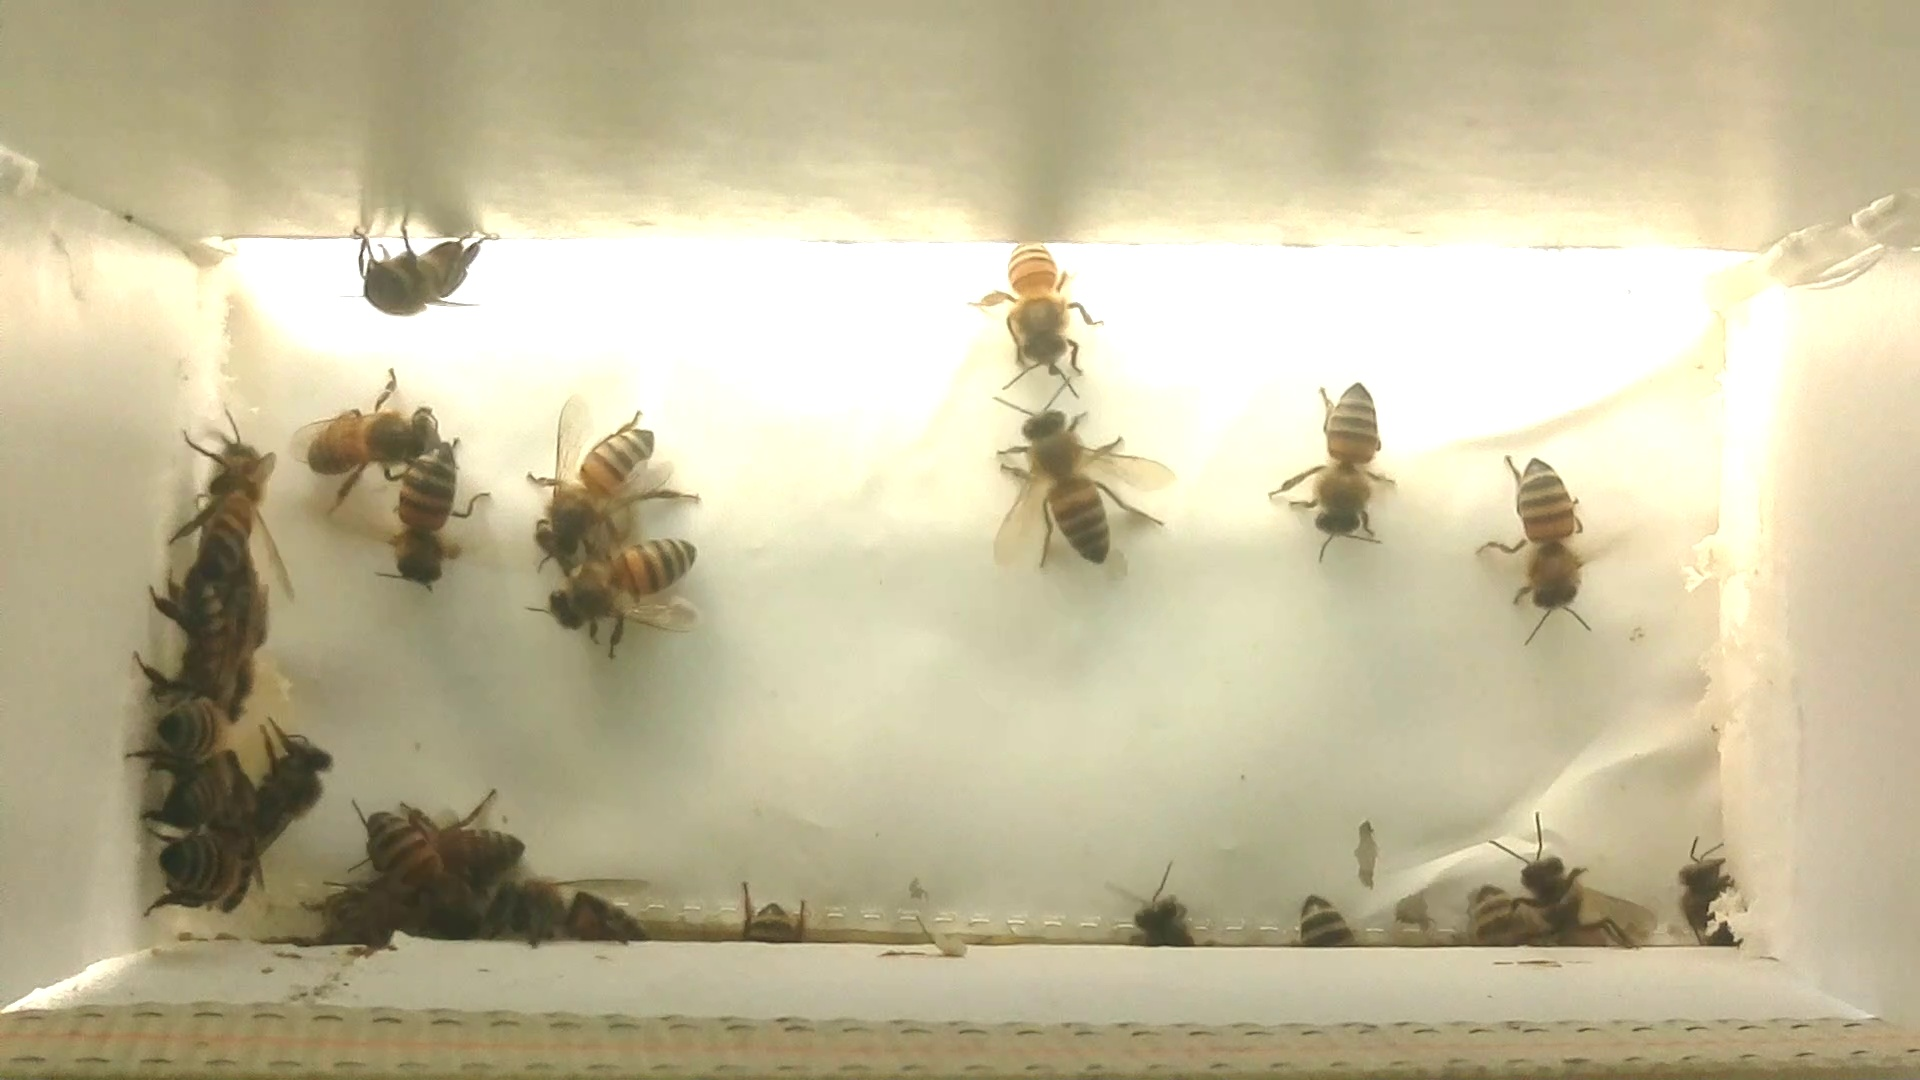bee: (968, 376, 1168, 576), (505, 396, 705, 576), (1261, 363, 1414, 574), (1472, 448, 1609, 651), (520, 535, 721, 673), (281, 361, 465, 510), (968, 225, 1110, 396), (1495, 808, 1630, 971), (363, 425, 479, 607), (359, 791, 491, 951), (334, 208, 512, 324), (169, 415, 286, 585), (220, 703, 340, 860), (148, 564, 265, 709), (1098, 849, 1209, 968), (131, 731, 237, 836), (1665, 839, 1759, 957), (144, 820, 253, 920), (128, 669, 225, 766), (436, 798, 545, 884), (1451, 864, 1542, 959), (1280, 884, 1369, 968), (729, 884, 822, 955)
